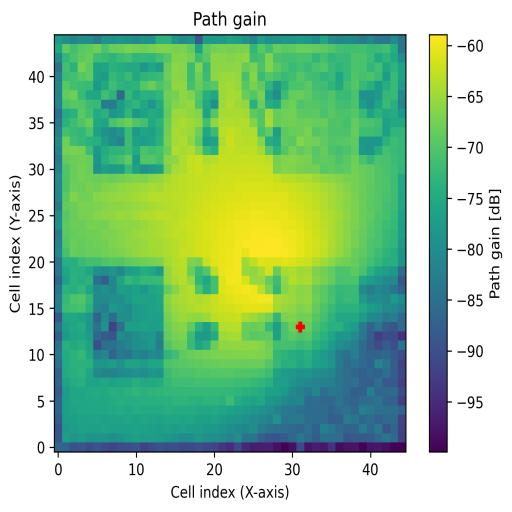Concrete: (274, 53, 351, 174)
Glass: (93, 55, 164, 174)
Metal: (274, 267, 360, 392)
Wood: (93, 266, 167, 377)
